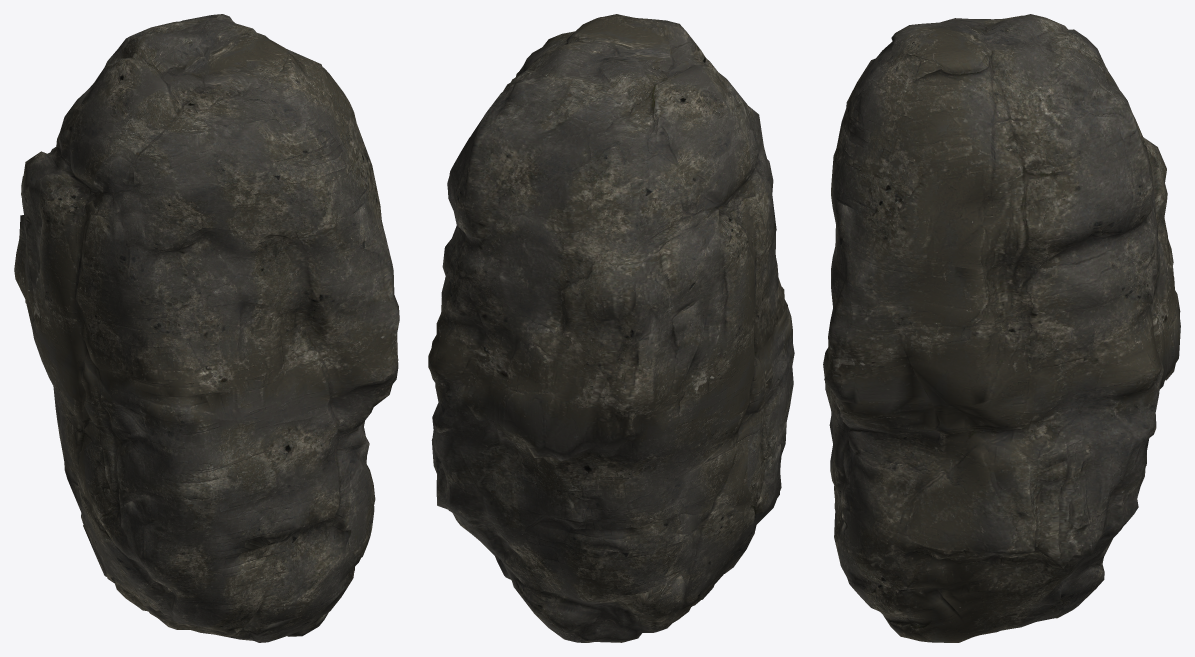
File: SM_Rock01Cave.FBX
3 views of the same model, side by side, from view 1: azimuth 30°, elevation 25°; view 2: azimuth 150°, elevation 25°; view 3: azimuth 270°, elevation 25° (orthographic).
Parts seen in each view (by area): view 1: SM_Rock01Cave; view 2: SM_Rock01Cave; view 3: SM_Rock01Cave.
Boxes of the visible parts, x1,y1,x2,y2 form: SM_Rock01Cave: (14,14,399,642); SM_Rock01Cave: (428,14,794,642); SM_Rock01Cave: (823,14,1180,642).
Bounding box in the file's own units: 1125 × 1171 × 2105.
